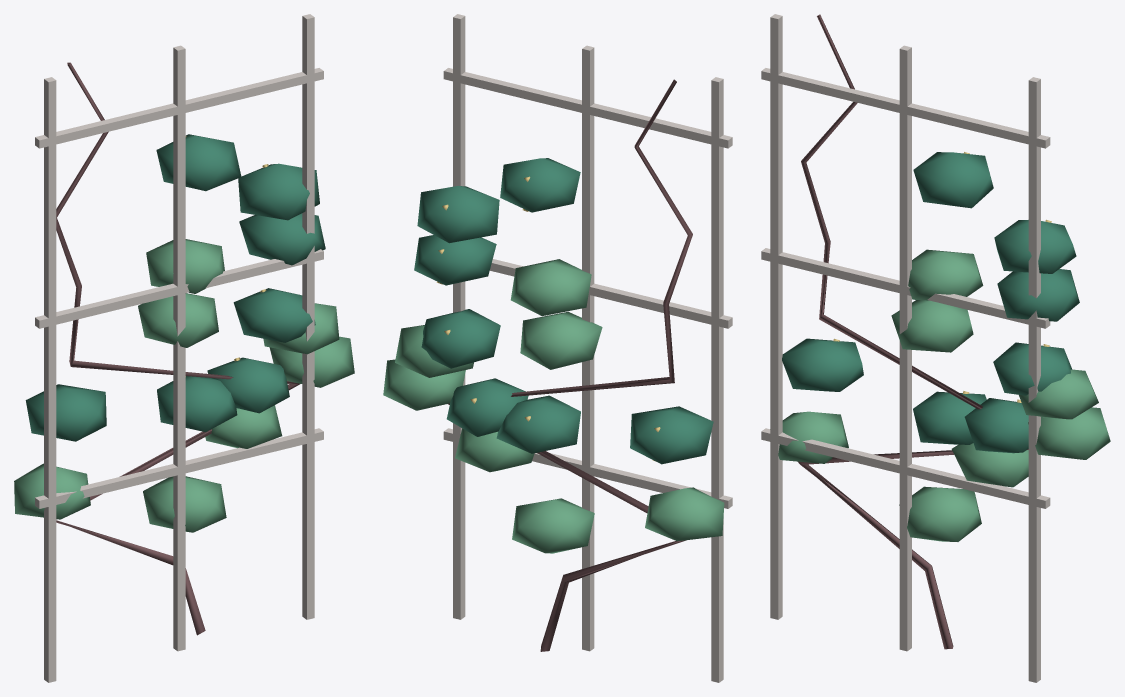
File: honeysuckle.glb
3 views of the same model, side by side, from view 1: azimuth 30°, elevation 25°; view 2: azimuth 150°, elevation 25°; view 3: azimuth 330°, elevation 25° (orthographic).
Visible parts, largest first — view 1: honeysuckle; view 2: honeysuckle; view 3: honeysuckle.
Part boxes in pixels (bbox=[...]): honeysuckle: bbox=[14, 14, 354, 682]; honeysuckle: bbox=[383, 14, 732, 682]; honeysuckle: bbox=[761, 14, 1110, 682].
Size of what is drawn, in the model's own units: 1.28 by 2.2 by 0.2781.
